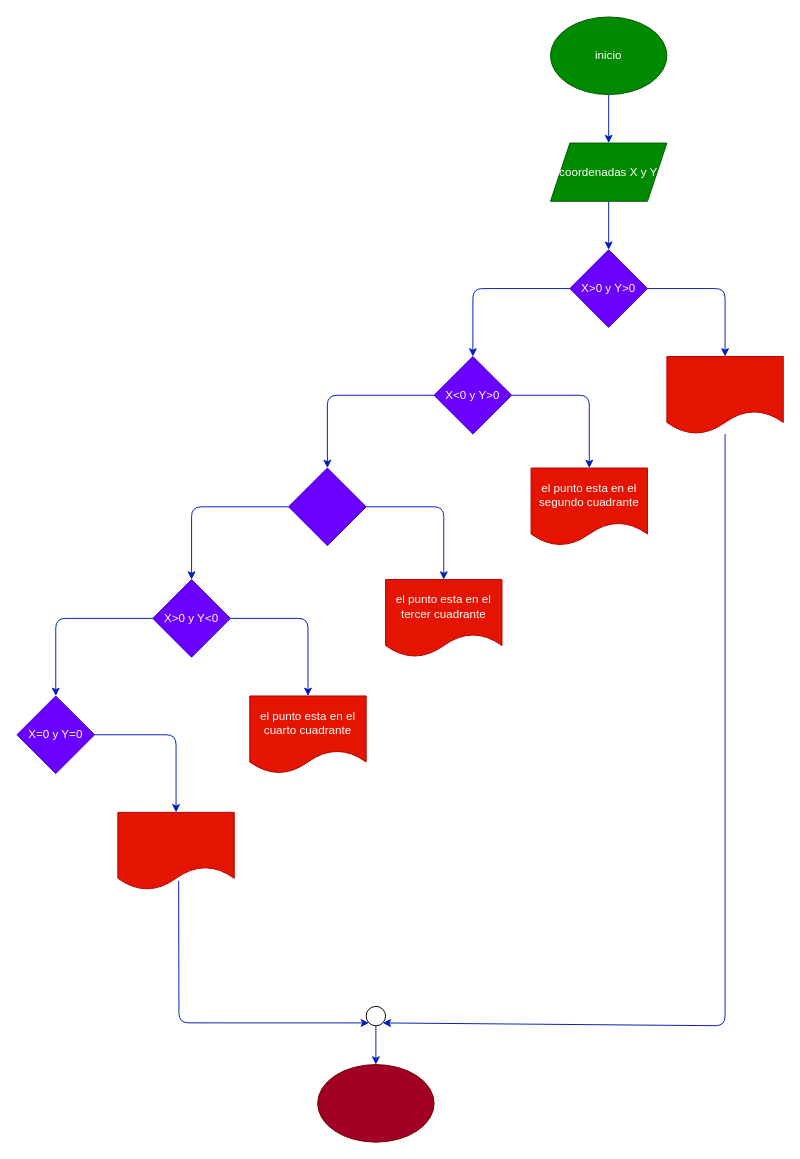
Image size: 800x1159. Some labels were removed from this diagram. Here are the shapes that lost their labels. From the top down, the centre of each, then its label:
At point 724,395: "el punto esta en el primer cuadrante".
At point 327,506: "X<0 y Y<0".
At point 175,850: "el punto esta en el origen".
At point 375,1103: "fin".
